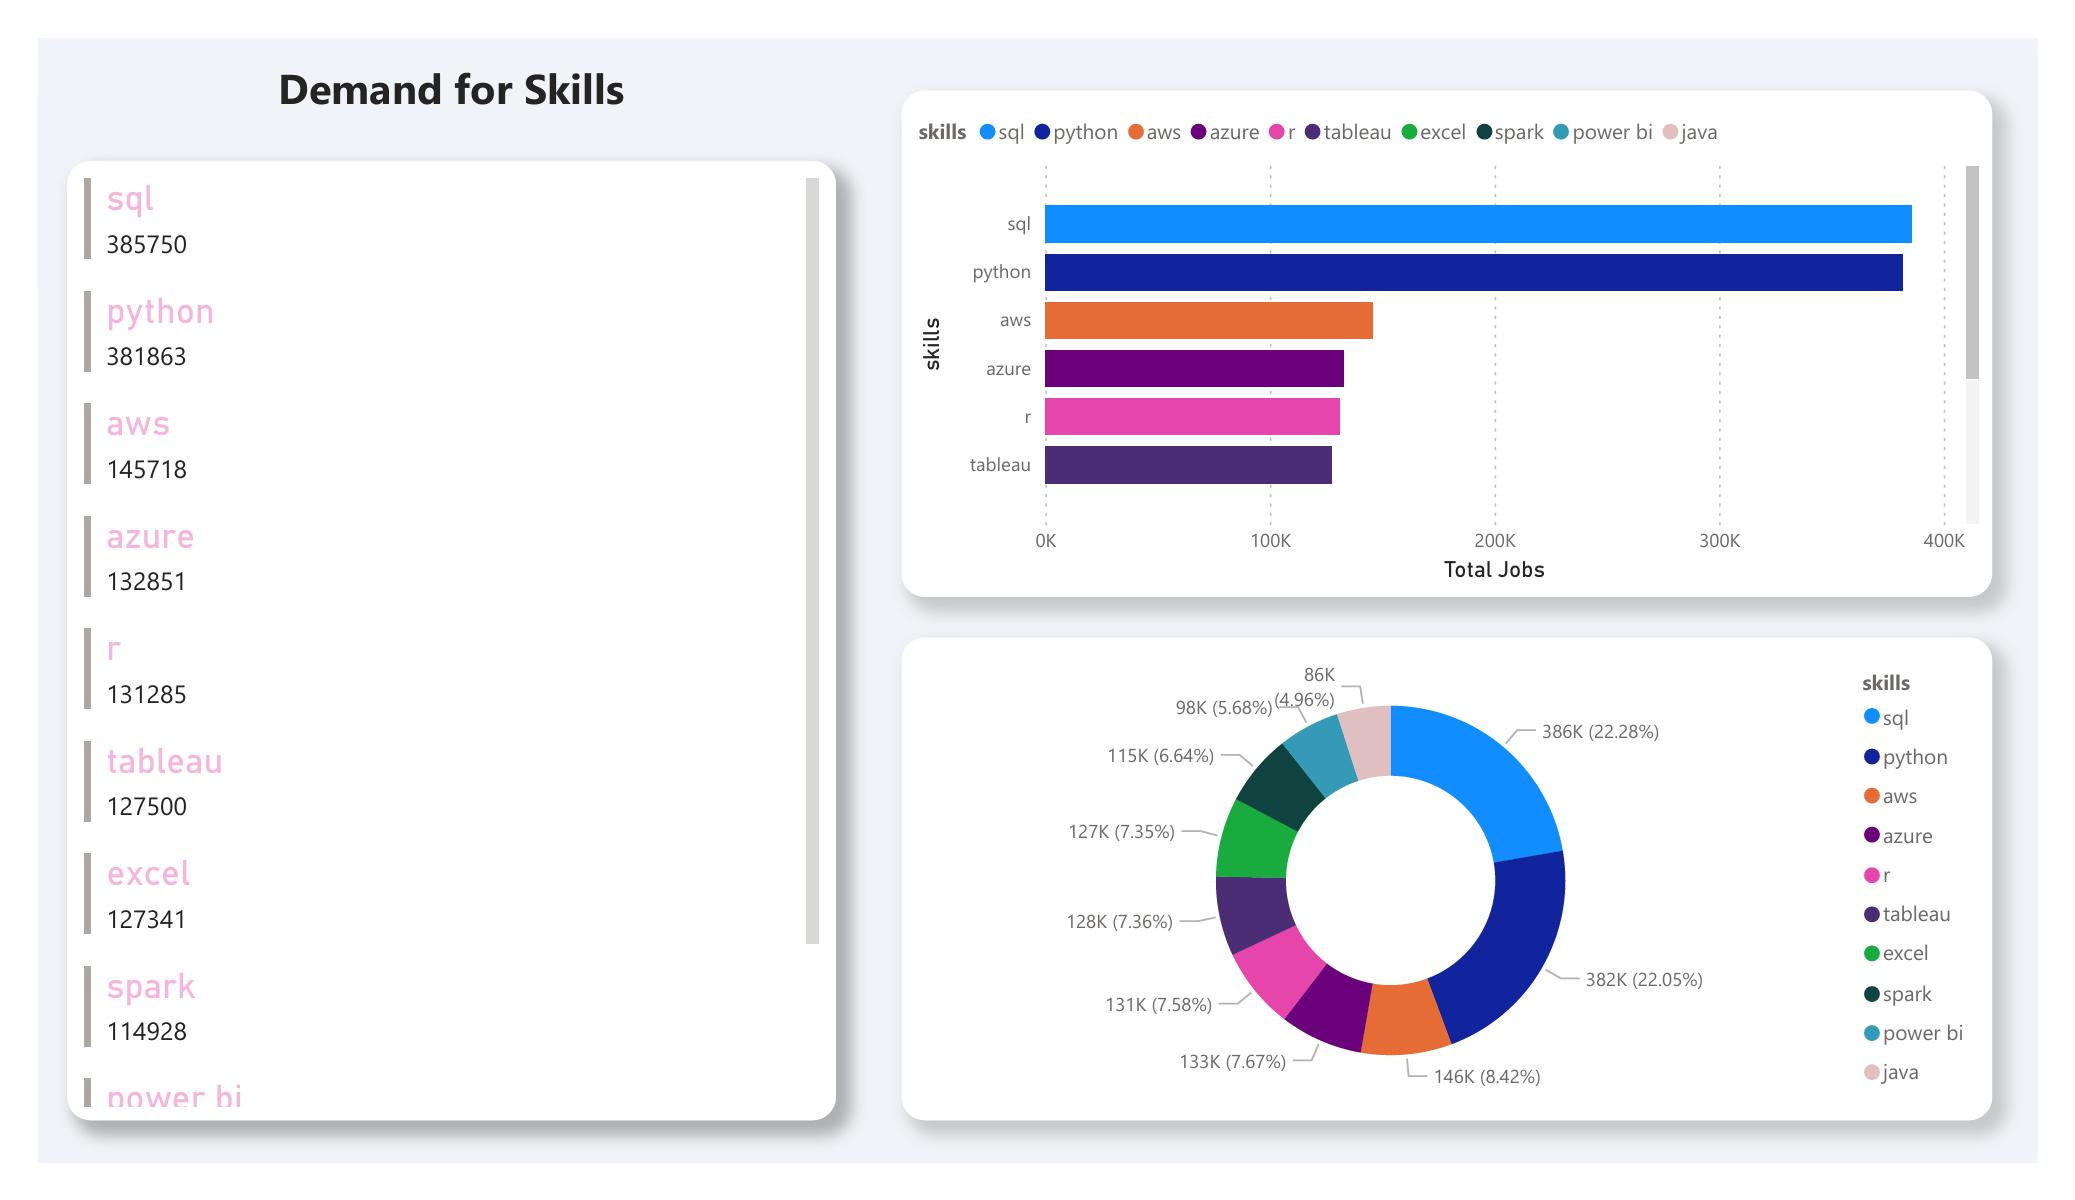

The page's visual inventory and layout, read from the dashboard file:
{"tool":"powerbi","page":{"name":"Page 2","canvas":[1280,720],"ordinal":1},"visuals":[{"type":"donutChart","fields":{"Y":["Sum(Top Demanded Skills.job_count)"],"Category":["Top Demanded Skills.skills"]},"box":[552.7,383.6,698.2,309.1],"z":0},{"type":"barChart","title":"Number of Jobs by Skills needed","fields":{"Category":["Top Demanded Skills.skills"],"Y":["Sum(Top Demanded Skills.job_count)"],"Series":["Top Demanded Skills.skills"]},"box":[552.7,33.6,698.2,324.5],"z":1000},{"type":"textbox","box":[19.1,9.1,491.8,49.1],"z":2000},{"type":"multiRowCard","fields":{"Values":["Sum(Top Demanded Skills.job_count)","Top Demanded Skills.skills"]},"box":[19.1,79.1,491.8,613.6],"z":3000}]}

Visuals, with their boxes on the page's 1280x720 design canvas (x1, y1, x2, y2). These are canvas units, not pixel positions in the 2075x1200 screenshot, which may show the page scaled, cropped or inside an application window:
donutChart - Sum(Top Demanded Skills.job_count) x Top Demanded Skills.skills: [553,384,1251,693]
"Number of Jobs by Skills needed" barChart: [553,34,1251,358]
textbox: [19,9,511,58]
multiRowCard - Sum(Top Demanded Skills.job_count) x Top Demanded Skills.skills: [19,79,511,693]
